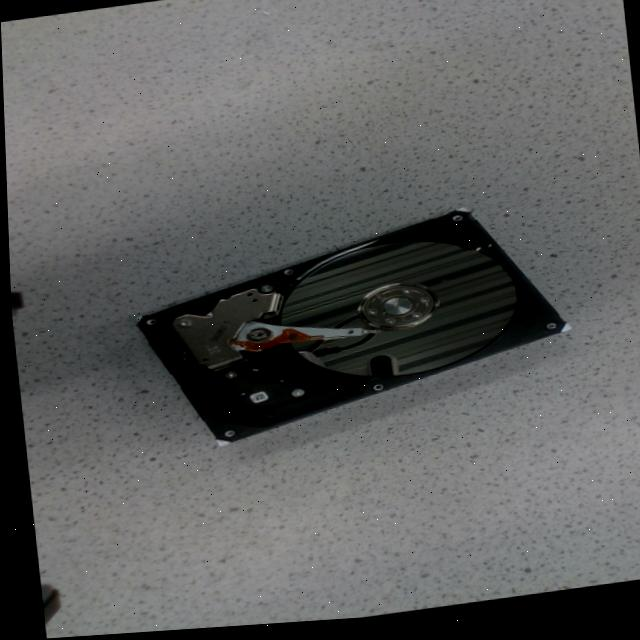actuator arm: (224, 324, 373, 354)
actuator axis: (243, 332, 267, 345)
case: (135, 215, 568, 447)
magnet: (169, 292, 278, 371)
pcb connector: (223, 370, 293, 411)
platter: (278, 249, 511, 379)
platter holder: (356, 288, 435, 336)
screw: (173, 321, 187, 329), (288, 392, 300, 401), (378, 323, 392, 330), (362, 313, 374, 321), (396, 292, 408, 300), (407, 316, 417, 325), (416, 302, 426, 309), (372, 299, 382, 305), (222, 375, 232, 380)
